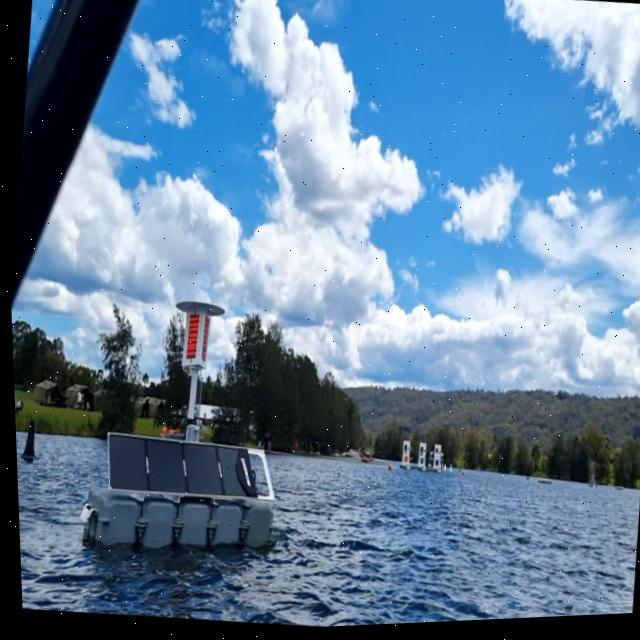led: (180, 313, 199, 365)
